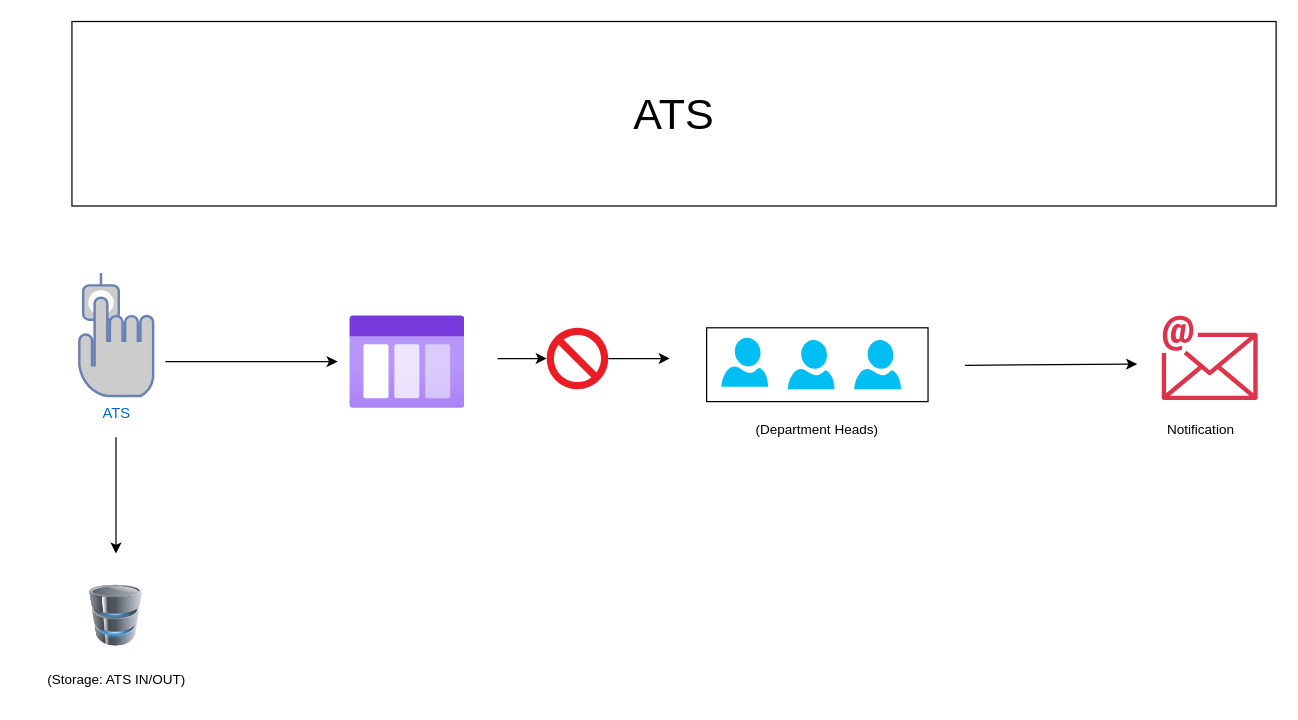
This 1298x720 diagram has some shape labels left out. Each missing label, with the centre of its shape:
Check: Whitelisted IPs: [406,361]
Not Found IPs: [577,358]
